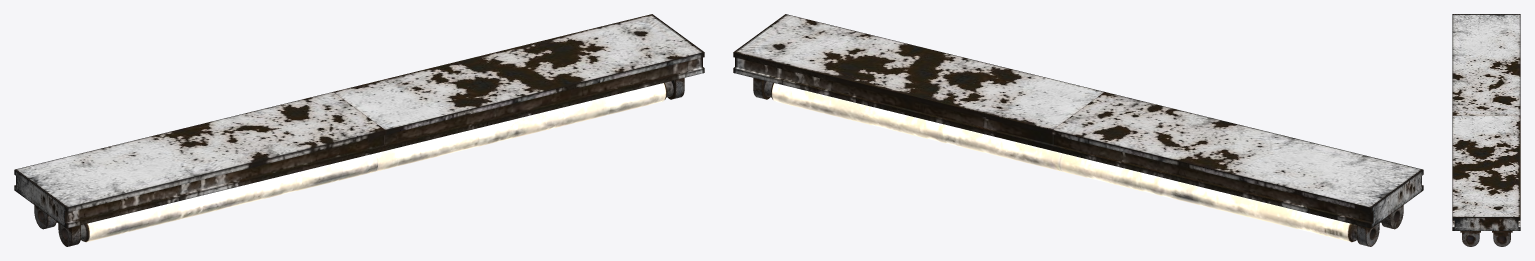
3 views of the same model, side by side, from view 1: azimuth 30°, elevation 25°; view 2: azimuth 150°, elevation 25°; view 3: azimuth 270°, elevation 25° (orthographic). The views are drawn at different scales.
Visible parts, largest first — view 1: GasstationLight_LOW; view 2: GasstationLight_LOW; view 3: GasstationLight_LOW.
Boxes of the visible parts, x1,y1,x2,y2 form: GasstationLight_LOW: (14,14,704,246); GasstationLight_LOW: (733,14,1423,246); GasstationLight_LOW: (1452,14,1520,246).
Size of the model in its own units: 1.62 by 0.1246 by 0.2302.
Materials: 1 (1 with a texture image).
